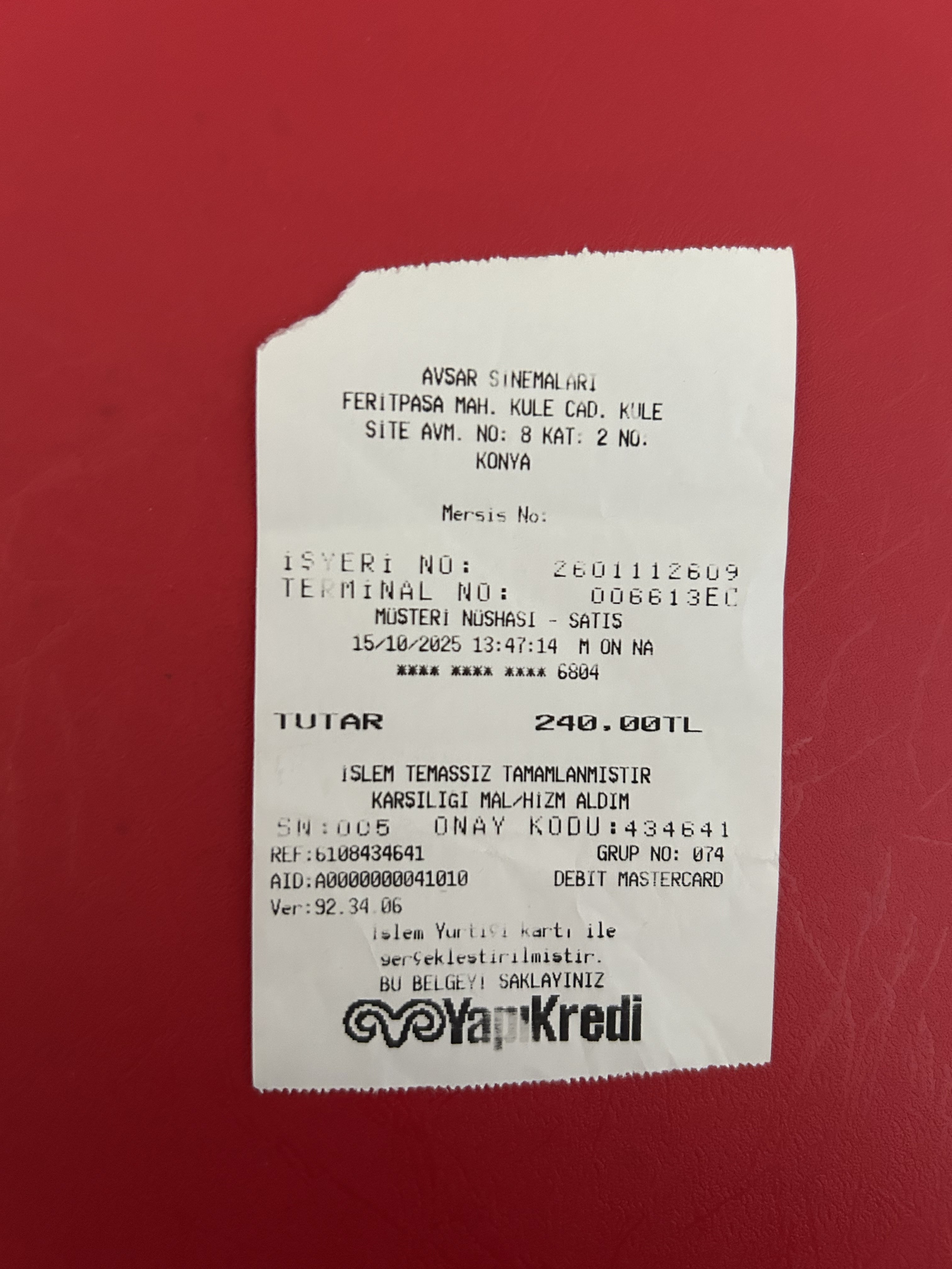date: (342, 628, 472, 659)
price: (526, 704, 717, 751)
workplace: (330, 356, 686, 478)
